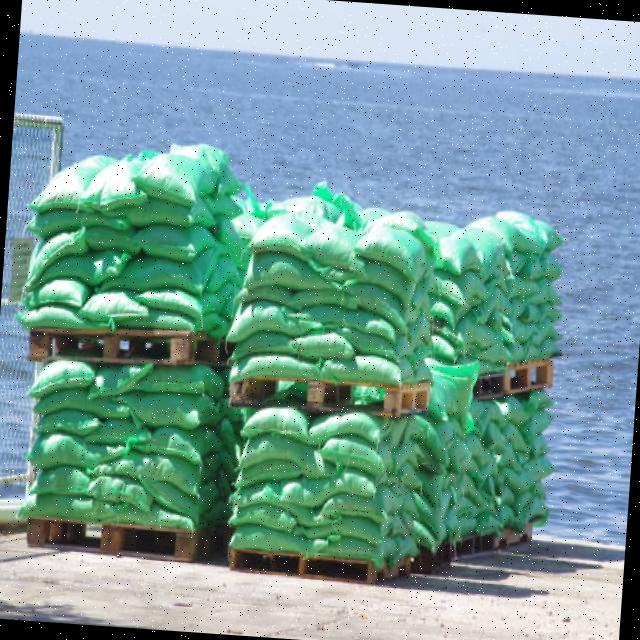Wooden-Pallets: (228, 375, 430, 417), (26, 515, 200, 562), (227, 545, 376, 592), (26, 326, 188, 369), (476, 357, 554, 405)
